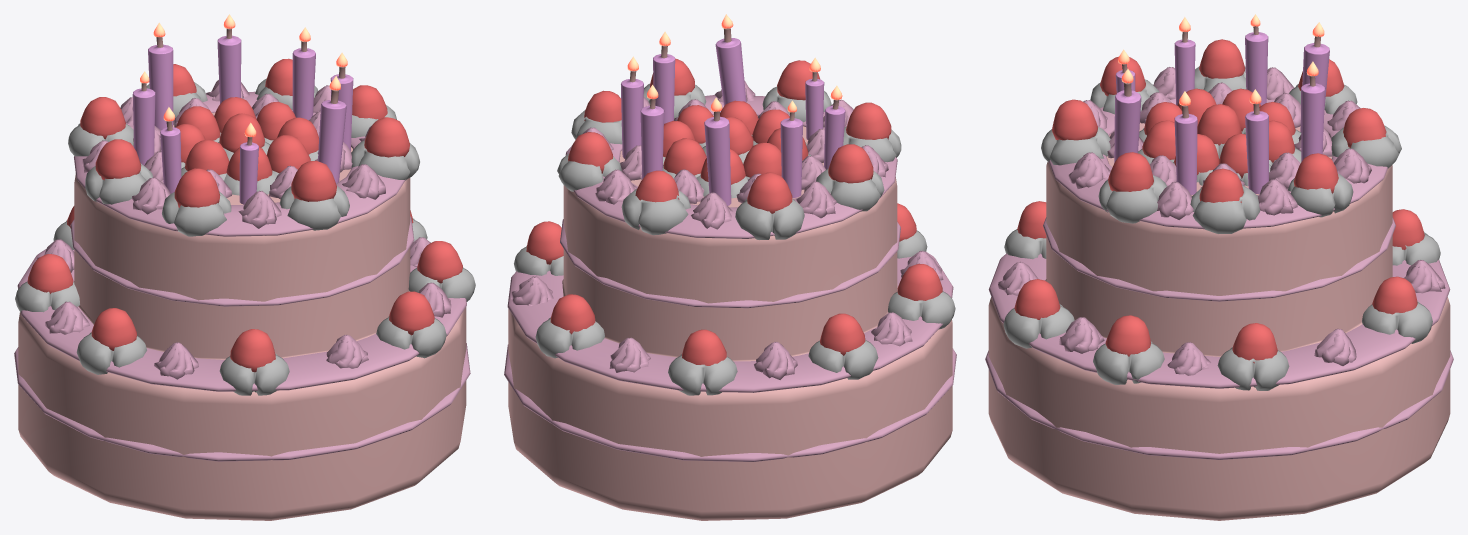
File: cake.glb
3 renders of one model, left to right at view 1: azimuth 30°, elevation 25°; view 2: azimuth 150°, elevation 25°; view 3: azimuth 270°, elevation 25°, orthographic. The views are drawn at different scales.
Visible parts, largest first — view 1: pCylinder67, pTorus5, pTorus6, pTorus9, pTorus8, pCylinder76, pCylinder83, pCylinder99, pCylinder75, pCylinder95, pCylinder84, pCylinder82 (+41 smaller); view 2: pCylinder67, pTorus5, pTorus6, pTorus9, pTorus8, pCylinder71, pCylinder95, pCylinder70, pCylinder78, pCylinder85, pCylinder99, pCylinder79 (+46 smaller); view 3: pCylinder67, pTorus5, pTorus9, pTorus6, pTorus8, pCylinder73, pCylinder80, pCylinder81, pCylinder74, pCylinder97, pCylinder82, pCylinder79 (+50 smaller).
Boxes of the visible parts, <box> form: pCylinder67: <box>18,112,466,520</box>; pTorus5: <box>17,249,466,391</box>; pTorus6: <box>74,91,405,236</box>; pTorus9: <box>14,343,470,461</box>; pTorus8: <box>70,216,414,306</box>; pCylinder76: <box>162,191,231,236</box>; pCylinder83: <box>219,353,289,395</box>; pCylinder99: <box>318,90,346,183</box>; pCylinder75: <box>279,186,349,230</box>; pCylinder95: <box>148,37,173,130</box>; pCylinder84: <box>76,332,146,374</box>; pCylinder82: <box>376,316,446,358</box>; pCylinder67: <box>508,115,952,520</box>; pTorus5: <box>507,251,953,392</box>; pTorus6: <box>565,95,897,238</box>; pTorus9: <box>504,344,956,461</box>; pTorus8: <box>560,219,900,308</box>; pCylinder71: <box>621,189,690,235</box>; pCylinder95: <box>704,111,731,205</box>; pCylinder70: <box>735,199,804,239</box>; pCylinder78: <box>668,354,737,395</box>; pCylinder85: <box>808,339,878,379</box>; pCylinder99: <box>715,28,746,105</box>; pCylinder79: <box>535,317,604,358</box>; pCylinder67: <box>988,122,1450,520</box>; pTorus5: <box>988,253,1450,388</box>; pTorus9: <box>985,350,1453,459</box>; pTorus6: <box>1048,95,1388,229</box>; pTorus8: <box>1043,217,1395,301</box>; pCylinder73: <box>1190,185,1260,233</box>; pCylinder80: <box>1217,347,1289,390</box>; pCylinder81: <box>1093,341,1164,384</box>; pCylinder74: <box>1098,175,1166,223</box>; pCylinder97: <box>1245,103,1268,193</box>; pCylinder82: <box>1003,304,1074,348</box>; pCylinder79: <box>1362,301,1432,343</box>.
Bounding box in the file's own units: 0.0609 × 0.056 × 0.0609.
